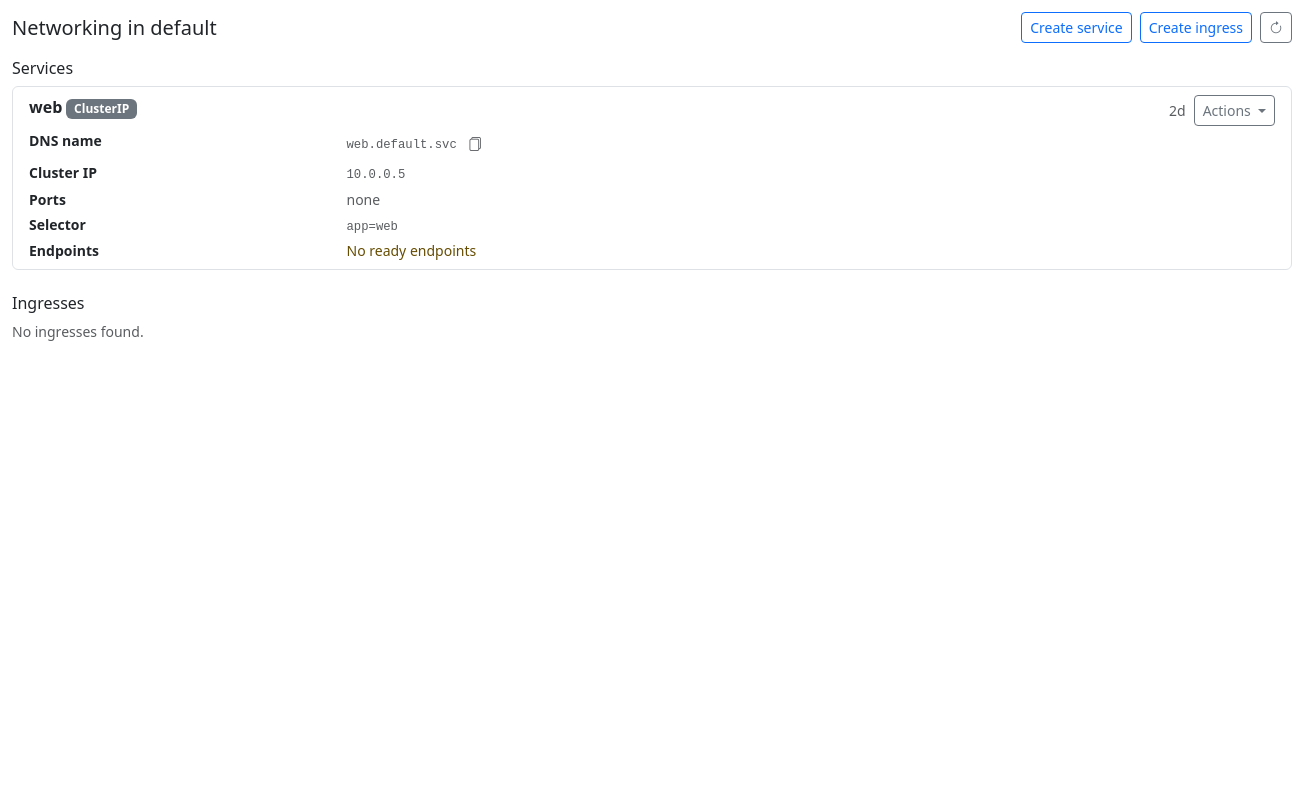
Scenario: NetworkingView — create service › renders a YAML preview from the form
Click the button "Create service" at (1076, 28), box [1021, 12, 1132, 43]
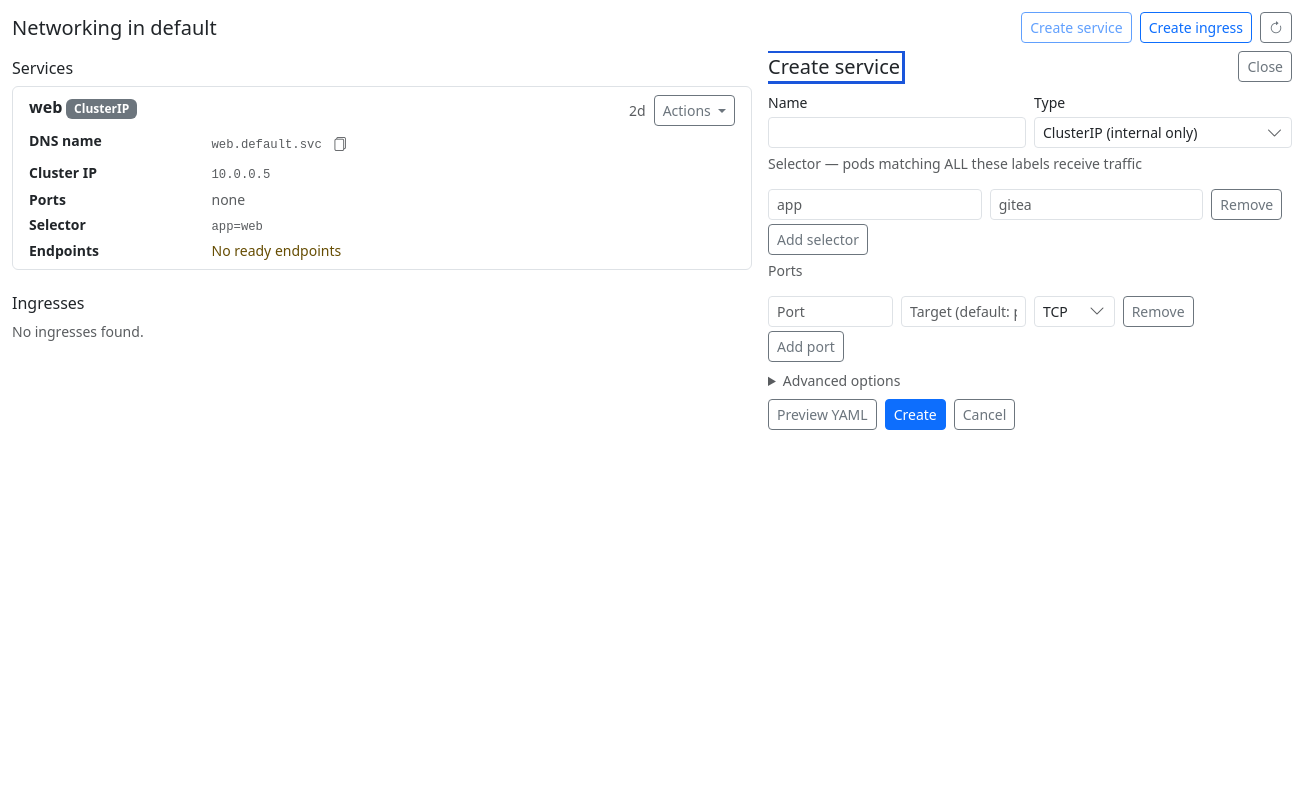
Type "web" into the field with id "svc-name" at (897, 132), box [768, 117, 1026, 148]
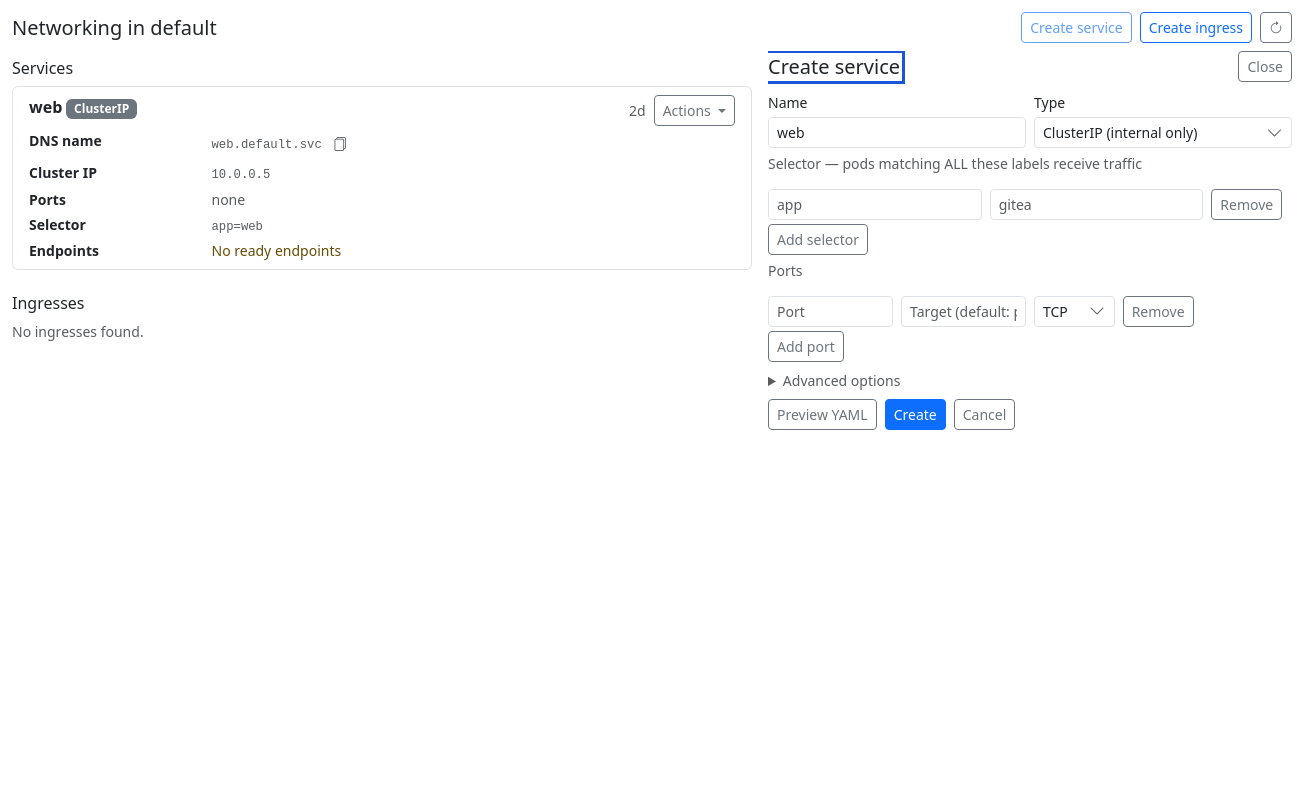
Type "80" into the number field with id "svc-port-0" at (830, 311), box [768, 296, 893, 327]
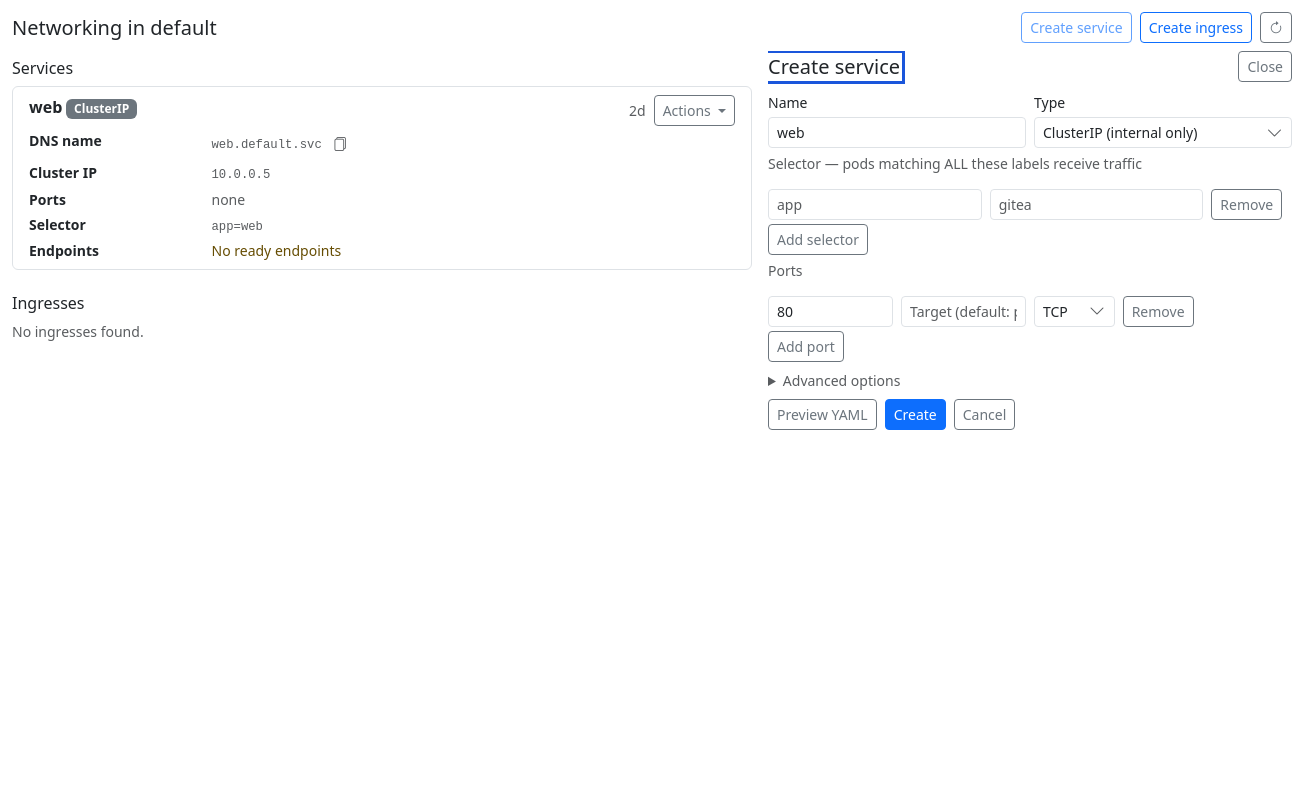
Click the button "Preview YAML" at (822, 414), box [768, 399, 877, 430]
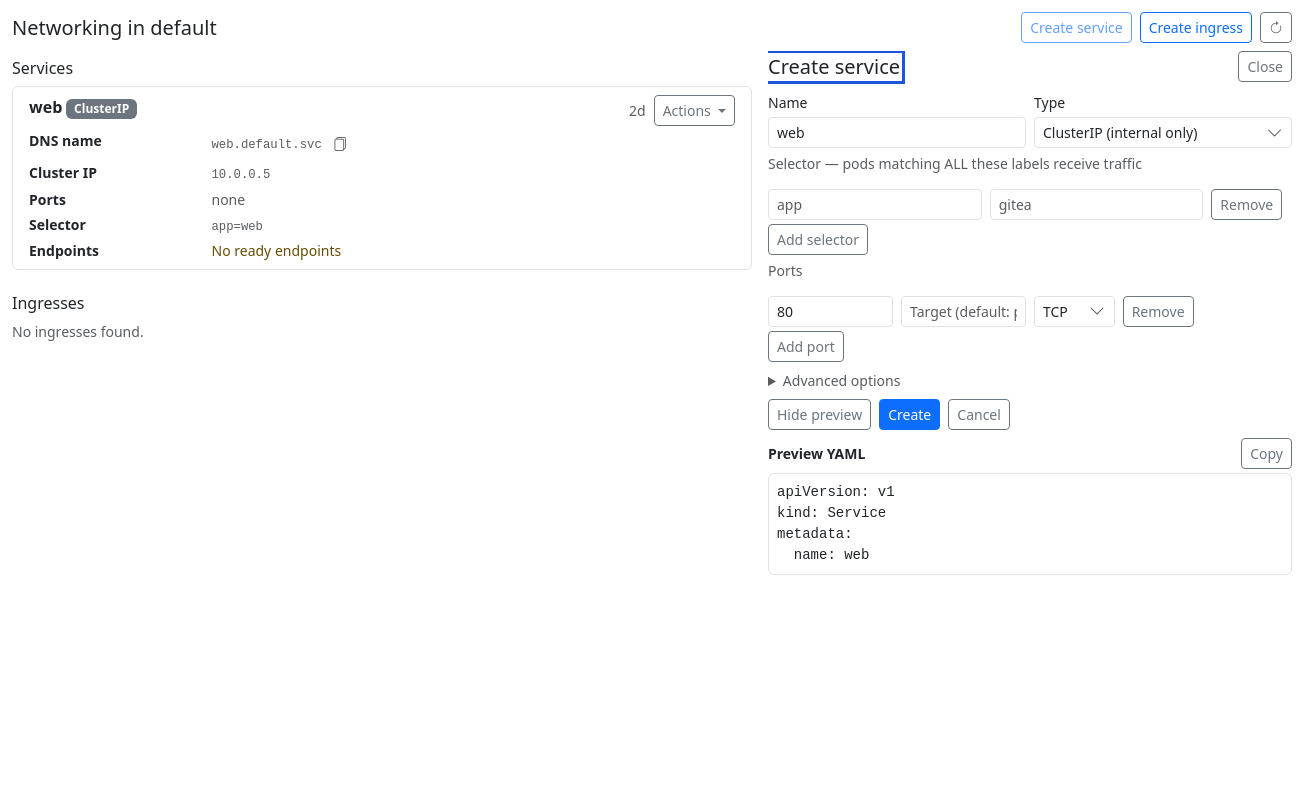
Expected: the text "kind: Service" is shown, [777, 484, 895, 563]
